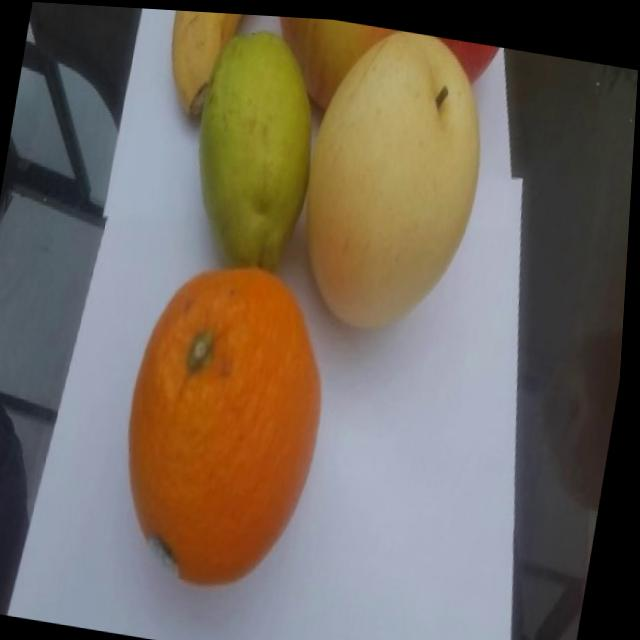Apple: (261, 12, 499, 126)
Banana: (153, 7, 243, 126)
Orange: (99, 238, 358, 601)
